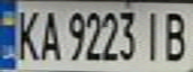2: (81, 7, 103, 62), (100, 7, 121, 62)
3: (118, 8, 142, 62)
9: (63, 7, 84, 62)
A: (36, 7, 63, 62)
B: (160, 7, 193, 63)
I: (139, 7, 169, 62)
K: (9, 6, 42, 62)
